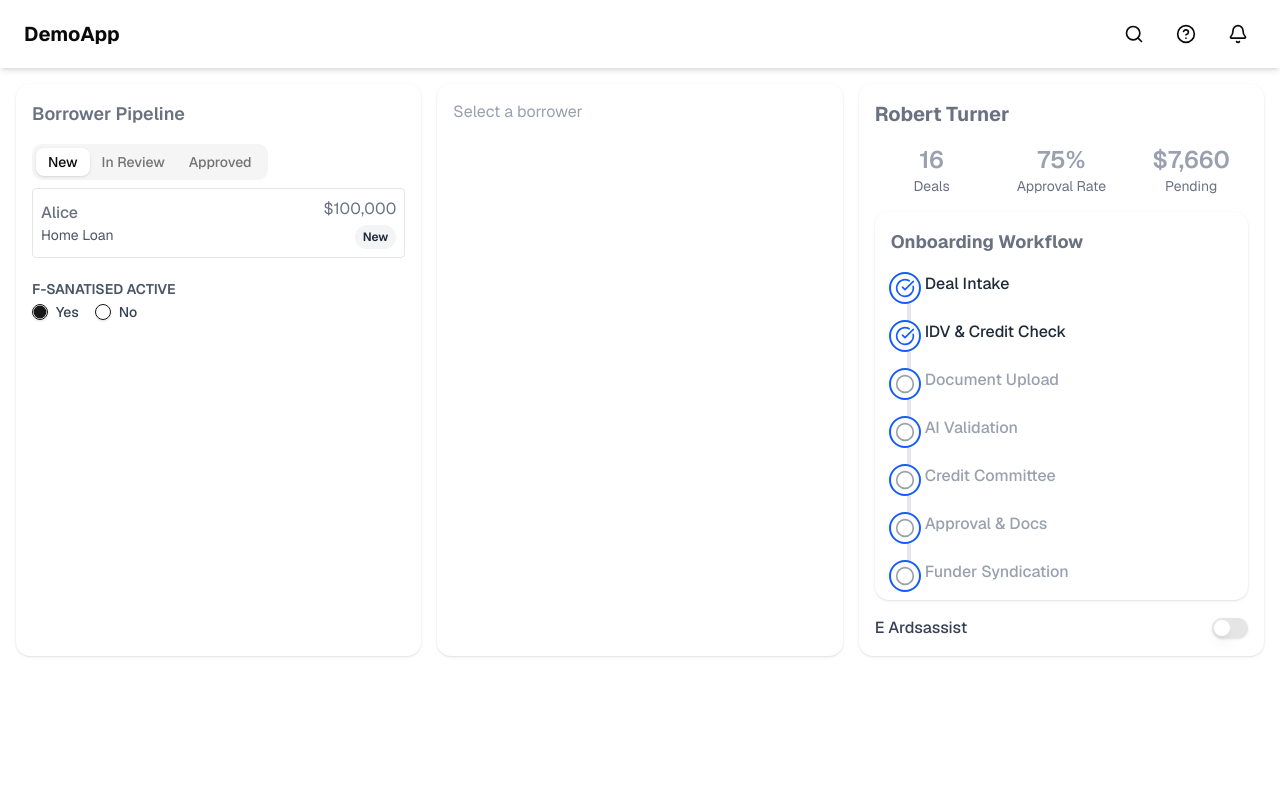
Scenario: Borrower Pipeline & Details › selects a borrower and loads details
The width and height of the screenshot is (1280, 800).
Click the list item with test id "borrower-item-". click: (219, 223)
box: [32,188,405,258]
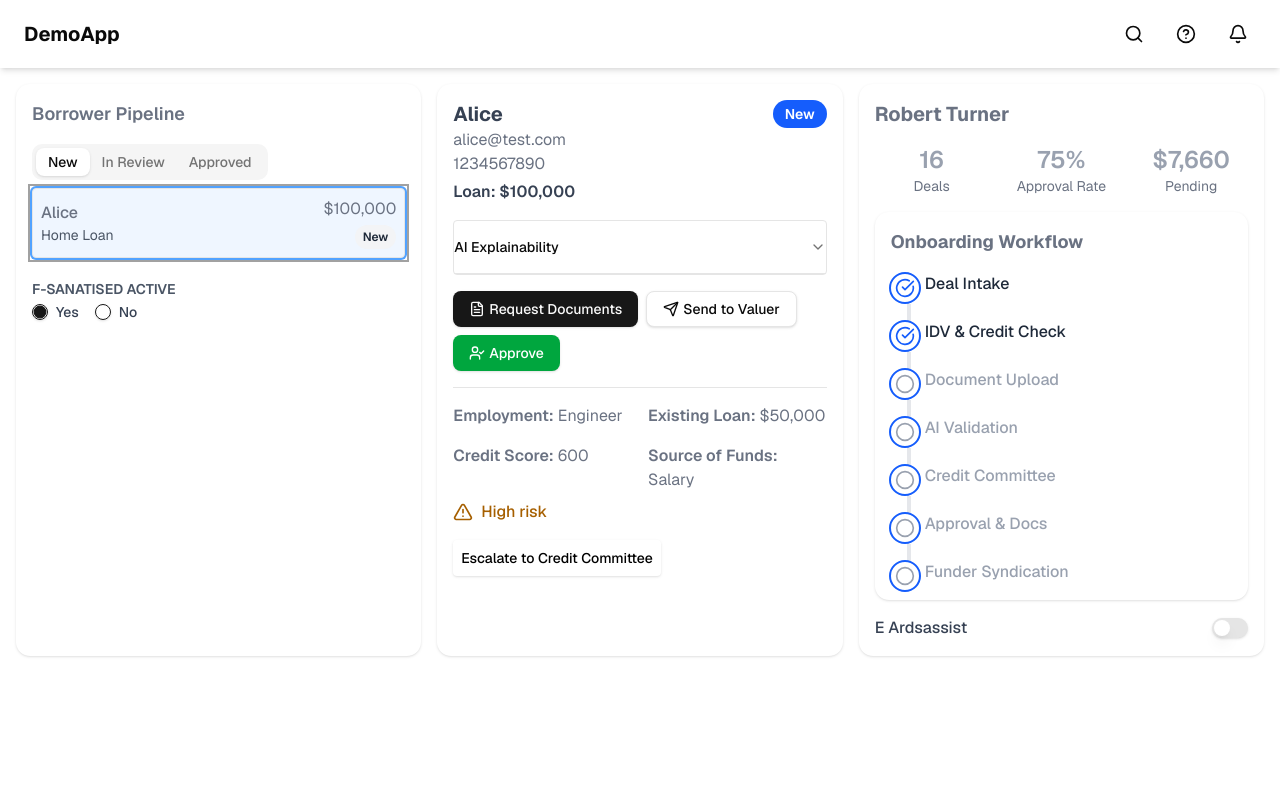
Expected: the element with test id "borrower-details" is shown, [437,84,842,656]
Expected: the heading with test id "borrower-name" reads "Alice", [453,101,503,127]
